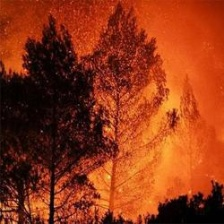fire: (17, 189, 154, 213)
